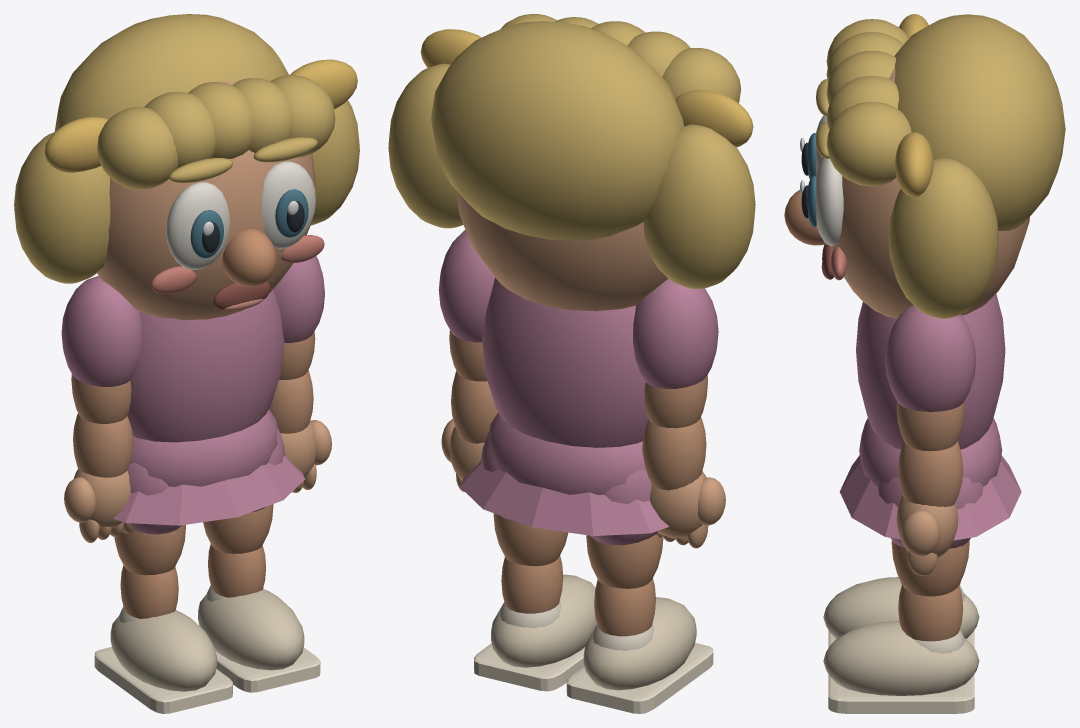
File: harper.glb
The picture shows the model from 3 angles, left to right: view 1: azimuth 30°, elevation 25°; view 2: azimuth 150°, elevation 25°; view 3: azimuth 270°, elevation 25°; orthographic projection. The views are drawn at different scales.
Parts seen in each view (by area): view 1: harper_head_mesh, harper_torso_mesh, harper_shinL_mesh, harper_shinR_mesh, harper_armL_mesh, harper_foreL_mesh, harper_armR_mesh, harper_foreR_mesh, harper_legL_mesh, harper_legR_mesh; view 2: harper_head_mesh, harper_torso_mesh, harper_shinL_mesh, harper_shinR_mesh, harper_armL_mesh, harper_foreL_mesh, harper_armR_mesh, harper_legL_mesh, harper_foreR_mesh, harper_legR_mesh; view 3: harper_head_mesh, harper_torso_mesh, harper_shinR_mesh, harper_armR_mesh, harper_foreR_mesh, harper_shinL_mesh, harper_legR_mesh.
Part boxes in pixels (x1,y1,x2,y2): harper_head_mesh: [14, 14, 359, 320]; harper_torso_mesh: [113, 289, 304, 525]; harper_shinL_mesh: [94, 565, 232, 713]; harper_shinR_mesh: [198, 544, 320, 692]; harper_armL_mesh: [61, 276, 141, 423]; harper_foreL_mesh: [64, 413, 133, 542]; harper_armR_mesh: [274, 256, 324, 379]; harper_foreR_mesh: [269, 370, 331, 492]; harper_legL_mesh: [114, 462, 185, 575]; harper_legR_mesh: [203, 428, 285, 553]; harper_head_mesh: [388, 14, 755, 311]; harper_torso_mesh: [460, 277, 669, 535]; harper_shinL_mesh: [566, 578, 713, 713]; harper_shinR_mesh: [474, 555, 596, 691]; harper_armL_mesh: [633, 279, 718, 428]; harper_foreL_mesh: [642, 417, 725, 548]; harper_armR_mesh: [438, 230, 494, 381]; harper_legL_mesh: [586, 469, 663, 588]; harper_foreR_mesh: [441, 371, 498, 491]; harper_legR_mesh: [481, 432, 568, 566]; harper_head_mesh: [784, 14, 1065, 318]; harper_torso_mesh: [839, 294, 1021, 540]; harper_shinR_mesh: [823, 584, 979, 713]; harper_armR_mesh: [885, 305, 976, 451]; harper_foreR_mesh: [896, 441, 963, 575]; harper_shinL_mesh: [823, 577, 979, 647]; harper_legR_mesh: [878, 477, 982, 596].
Bounding box in the file's own units: 0.7486 × 1.34 × 0.5308.
